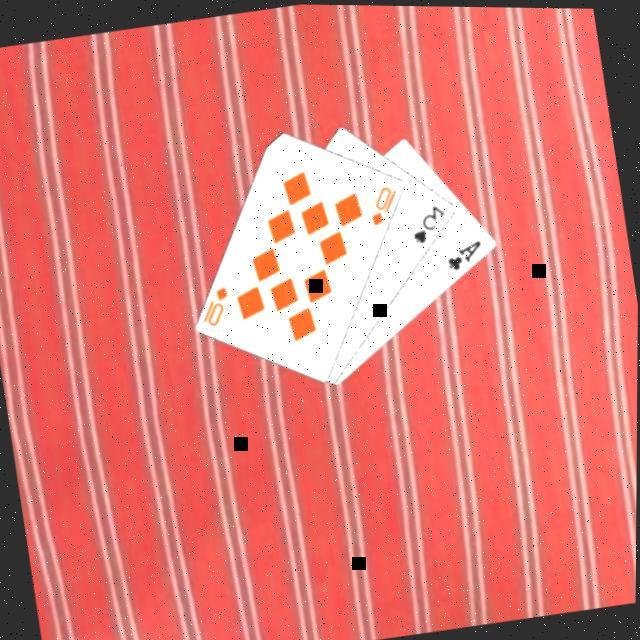10D: (197, 282, 239, 331), (366, 180, 406, 230)
3S: (408, 199, 454, 248)
AC: (444, 234, 491, 276)
